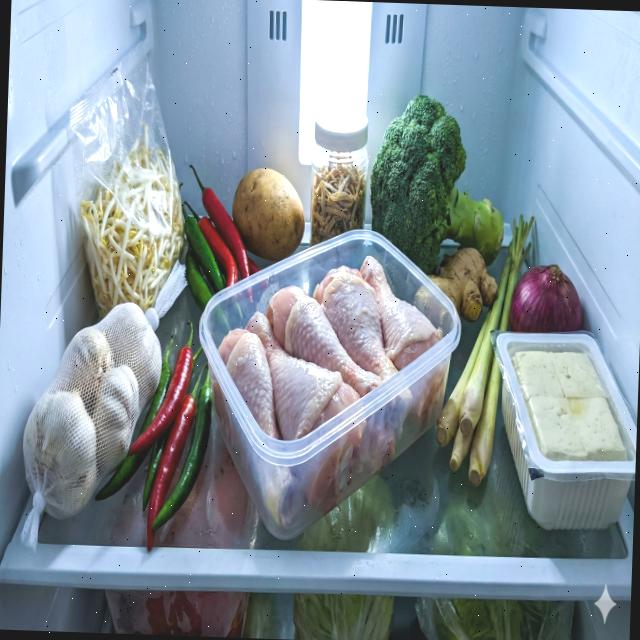bean_sprouts: (76, 120, 190, 327)
brocolli: (368, 91, 508, 278)
chicken: (211, 250, 450, 532)
chili: (92, 316, 215, 554), (174, 163, 264, 334)
garlic: (20, 298, 164, 524)
ginger: (412, 244, 499, 331)
lemongrass: (433, 210, 534, 488)
onion: (508, 262, 584, 336)
potato: (230, 165, 307, 262)
tofu: (510, 349, 630, 464)
